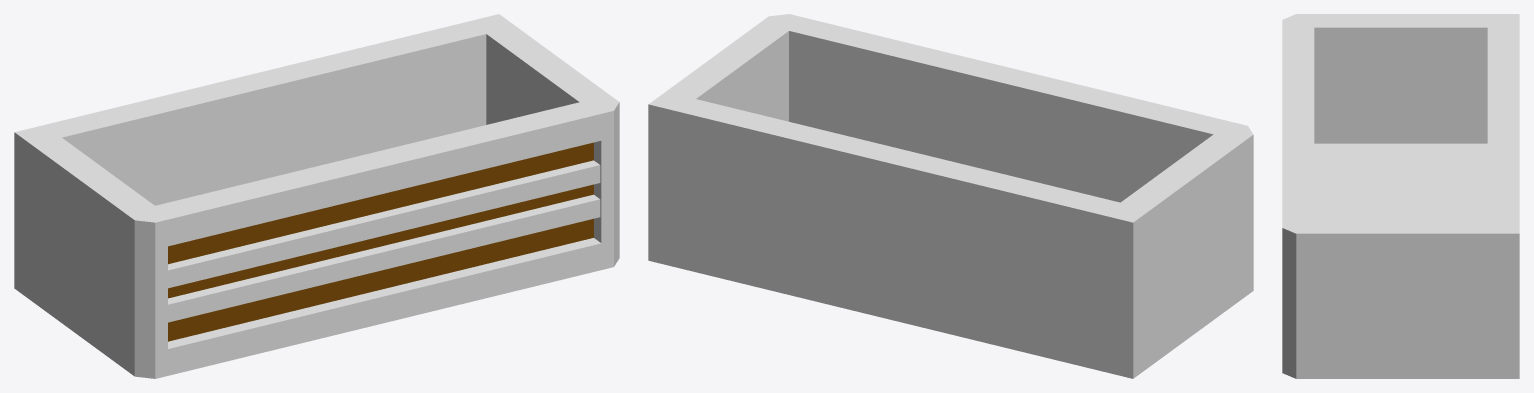
File: Tool_ToolBox.fbx
The picture shows the model from 3 angles, left to right: view 1: azimuth 30°, elevation 25°; view 2: azimuth 150°, elevation 25°; view 3: azimuth 270°, elevation 25°; orthographic projection. The views are drawn at different scales.
Visible parts, largest first — view 1: Tool_ToolBox; view 2: Tool_ToolBox; view 3: Tool_ToolBox.
Boxes of the visible parts, bbox=[...] form: Tool_ToolBox: bbox=[14, 14, 619, 378]; Tool_ToolBox: bbox=[648, 14, 1253, 378]; Tool_ToolBox: bbox=[1282, 14, 1519, 378].
Bounding box in the file's own units: 0.6448 × 0.1987 × 0.2946.
